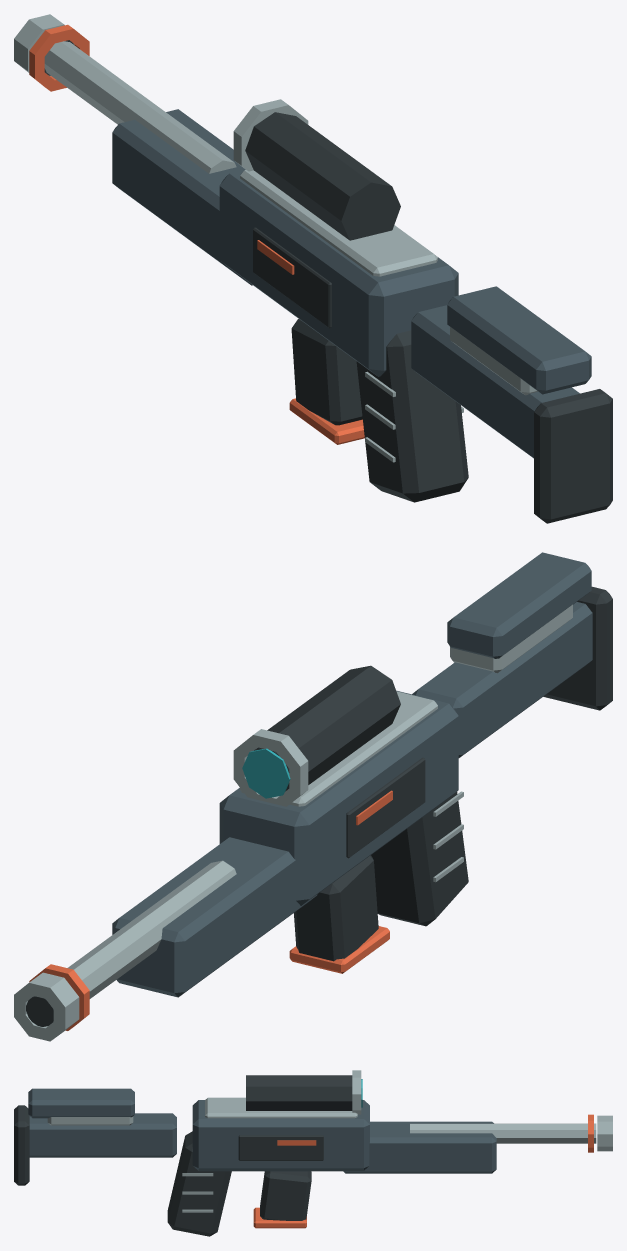
Rendered from sniper_rifle.glb.
The picture shows the model from 3 angles, top to bottom: view 1: azimuth 30°, elevation 25°; view 2: azimuth 150°, elevation 25°; view 3: azimuth 270°, elevation 25°; orthographic projection. The views are drawn at different scales.
Parts seen in each view (by area): view 1: sniper_rifle_receiver, sniper_rifle_grip, sniper_rifle_scope_body, sniper_rifle_fore_end, sniper_rifle_stock_pad, sniper_rifle_stock_spine, sniper_rifle_stock_neck, sniper_rifle_barrel, sniper_rifle_magazine, sniper_rifle_upper_spine, sniper_rifle_side_panel, sniper_rifle_muzzle_collar (+4 smaller); view 2: sniper_rifle_receiver, sniper_rifle_fore_end, sniper_rifle_stock_neck, sniper_rifle_stock_spine, sniper_rifle_grip, sniper_rifle_scope_body, sniper_rifle_barrel, sniper_rifle_magazine, sniper_rifle_stock_pad, sniper_rifle_side_panel, sniper_rifle_upper_spine, sniper_rifle_scope_front (+6 smaller); view 3: sniper_rifle_receiver, sniper_rifle_fore_end, sniper_rifle_stock_neck, sniper_rifle_scope_body, sniper_rifle_grip, sniper_rifle_stock_spine, sniper_rifle_barrel, sniper_rifle_magazine, sniper_rifle_side_panel.001, sniper_rifle_upper_spine, sniper_rifle_stock_pad, sniper_rifle_stock_cheek (+3 smaller).
Boxes of the visible parts, x1=… form: sniper_rifle_receiver: x1=219, y1=169, x2=458, y2=376; sniper_rifle_grip: x1=356, y1=330, x2=468, y2=502; sniper_rifle_scope_body: x1=245, y1=112, x2=400, y2=240; sniper_rifle_fore_end: x1=112, y1=109, x2=252, y2=285; sniper_rifle_stock_pad: x1=534, y1=389, x2=612, y2=523; sniper_rifle_stock_spine: x1=447, y1=286, x2=591, y2=394; sniper_rifle_stock_neck: x1=411, y1=305, x2=579, y2=458; sniper_rifle_barrel: x1=44, y1=41, x2=236, y2=173; sniper_rifle_magazine: x1=291, y1=319, x2=362, y2=425; sniper_rifle_upper_spine: x1=240, y1=170, x2=437, y2=276; sniper_rifle_side_panel: x1=253, y1=227, x2=331, y2=328; sniper_rifle_muzzle_collar: x1=29, y1=24, x2=89, y2=91; sniper_rifle_receiver: x1=219, y1=690, x2=458, y2=905; sniper_rifle_fore_end: x1=112, y1=837, x2=317, y2=997; sniper_rifle_stock_neck: x1=412, y1=602, x2=592, y2=757; sniper_rifle_stock_spine: x1=447, y1=552, x2=591, y2=658; sniper_rifle_grip: x1=371, y1=791, x2=468, y2=926; sniper_rifle_scope_body: x1=257, y1=665, x2=400, y2=788; sniper_rifle_barrel: x1=67, y1=860, x2=236, y2=998; sniper_rifle_magazine: x1=294, y1=855, x2=378, y2=961; sniper_rifle_stock_pad: x1=543, y1=586, x2=612, y2=710; sniper_rifle_side_panel: x1=346, y1=757, x2=425, y2=858; sniper_rifle_upper_spine: x1=240, y1=691, x2=437, y2=806; sniper_rifle_scope_front: x1=233, y1=729, x2=308, y2=806; sniper_rifle_receiver: x1=192, y1=1100, x2=369, y2=1171; sniper_rifle_fore_end: x1=343, y1=1121, x2=496, y2=1173; sniper_rifle_stock_neck: x1=29, y1=1113, x2=176, y2=1157; sniper_rifle_scope_body: x1=246, y1=1075, x2=352, y2=1110; sniper_rifle_grip: x1=167, y1=1131, x2=231, y2=1236; sniper_rifle_stock_spine: x1=28, y1=1088, x2=134, y2=1118; sniper_rifle_barrel: x1=410, y1=1123, x2=596, y2=1143; sniper_rifle_magazine: x1=260, y1=1171, x2=311, y2=1220; sniper_rifle_side_panel.001: x1=238, y1=1135, x2=323, y2=1160; sniper_rifle_upper_spine: x1=205, y1=1097, x2=357, y2=1118; sniper_rifle_stock_pad: x1=14, y1=1105, x2=29, y2=1185; sniper_rifle_stock_cheek: x1=47, y1=1116, x2=133, y2=1125.
Size of the model in its own units: 0.145 by 0.3895 by 1.35.
